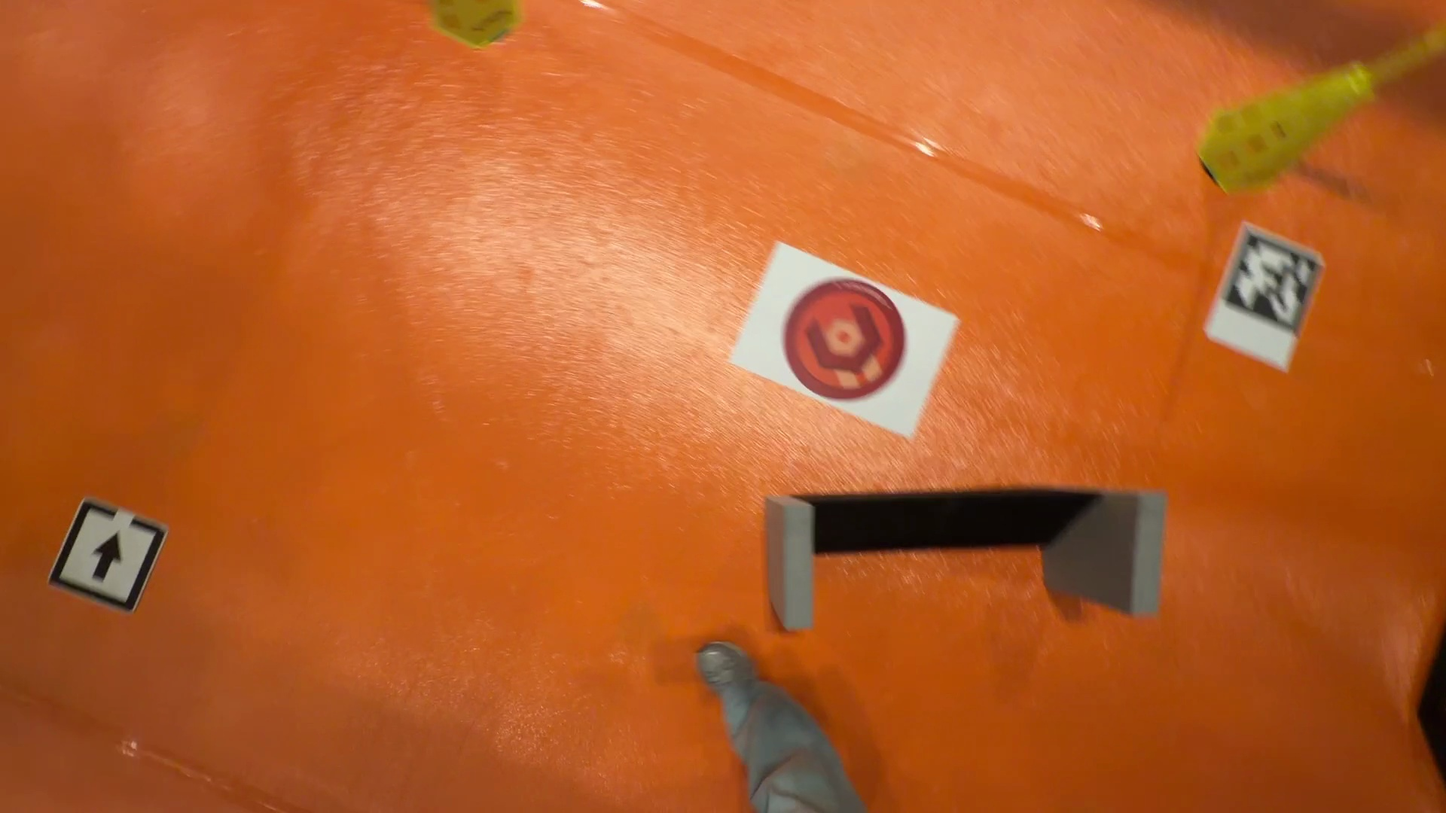landing_pad: (776, 277, 908, 409)
